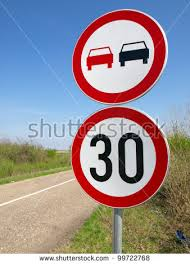Speed_limit_30km: (71, 107, 171, 208)
